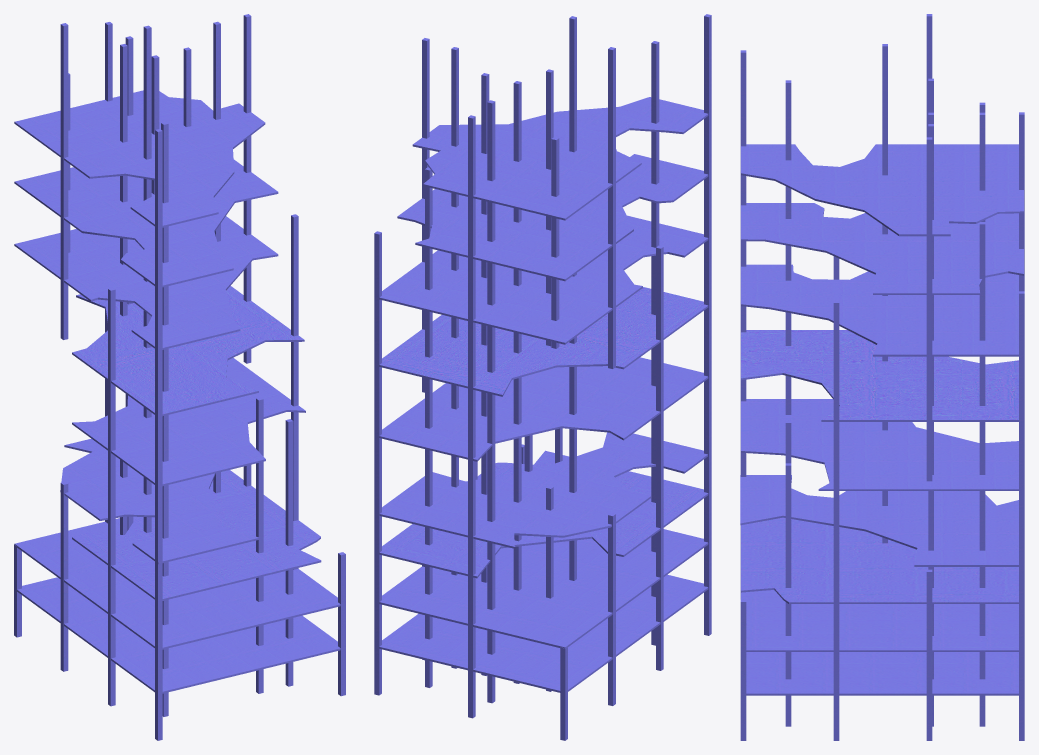
The model's file is big build.FBX.
3 renders of one model, left to right at view 1: azimuth 30°, elevation 25°; view 2: azimuth 150°, elevation 25°; view 3: azimuth 270°, elevation 25°, orthographic. The views are drawn at different scales.
Visible parts, largest first — view 1: bet_skelet; view 2: bet_skelet; view 3: bet_skelet.
Boxes of the visible parts, x1,y1,x2,y2 form: bet_skelet: (14,14,345,740); bet_skelet: (374,14,711,740); bet_skelet: (740,14,1024,740).
Bounding box in the file's own units: 30643 × 100429 × 40616.
